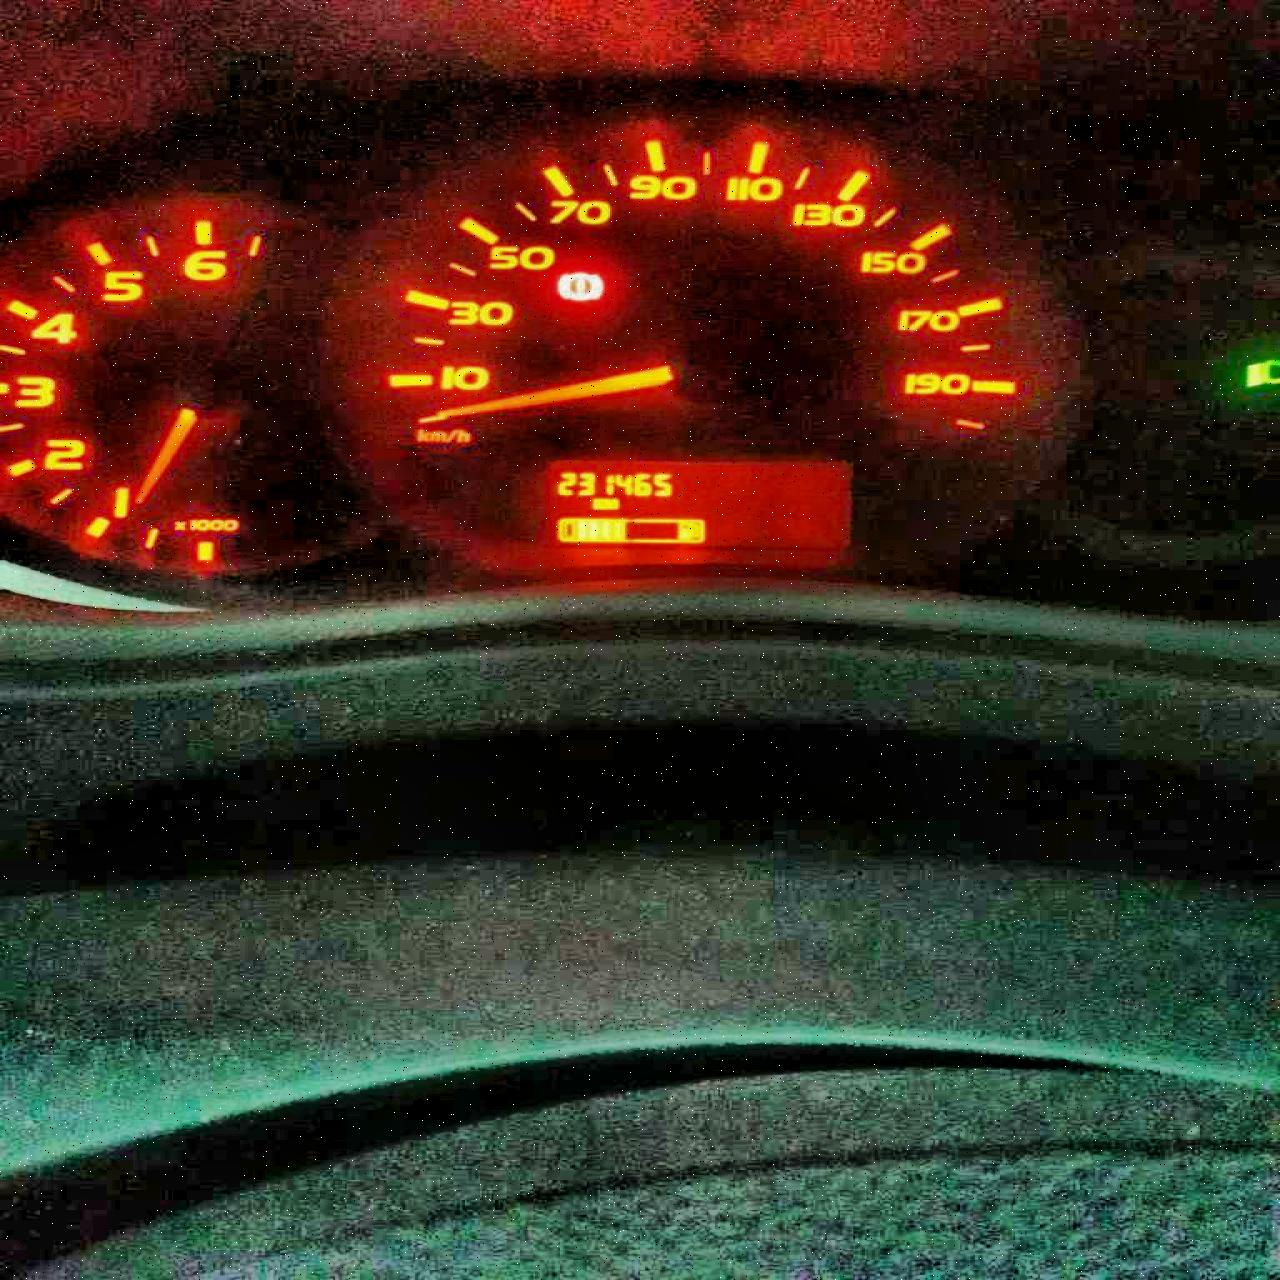1: (605, 471, 612, 495)
2: (557, 470, 576, 496)
3: (577, 470, 595, 495)
4: (613, 471, 629, 495)
5: (652, 471, 672, 497)
6: (633, 471, 649, 497)
X: (590, 495, 604, 510), (604, 496, 619, 510)
odometer: (537, 456, 857, 554)
